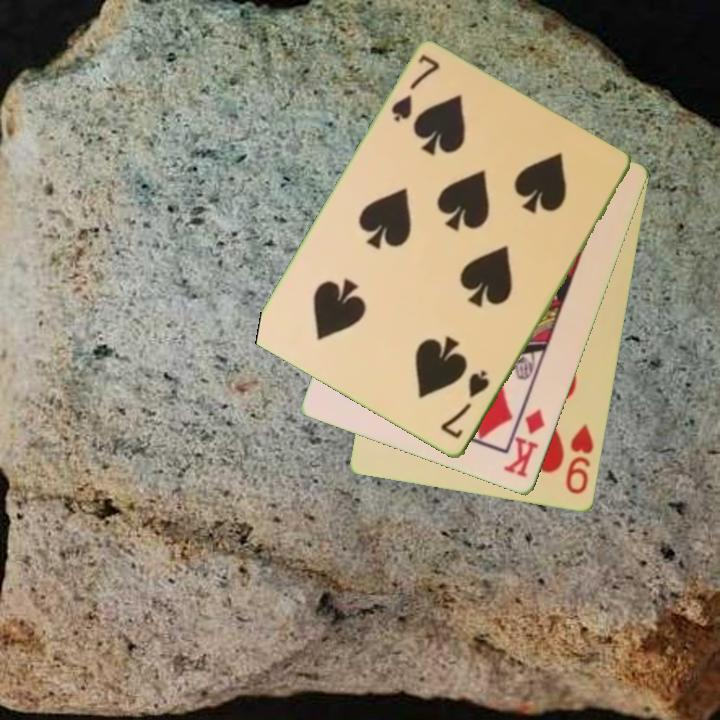7s: (437, 367, 493, 443), (387, 51, 443, 126)
9h: (562, 421, 597, 498)
Kd: (501, 406, 548, 481)
